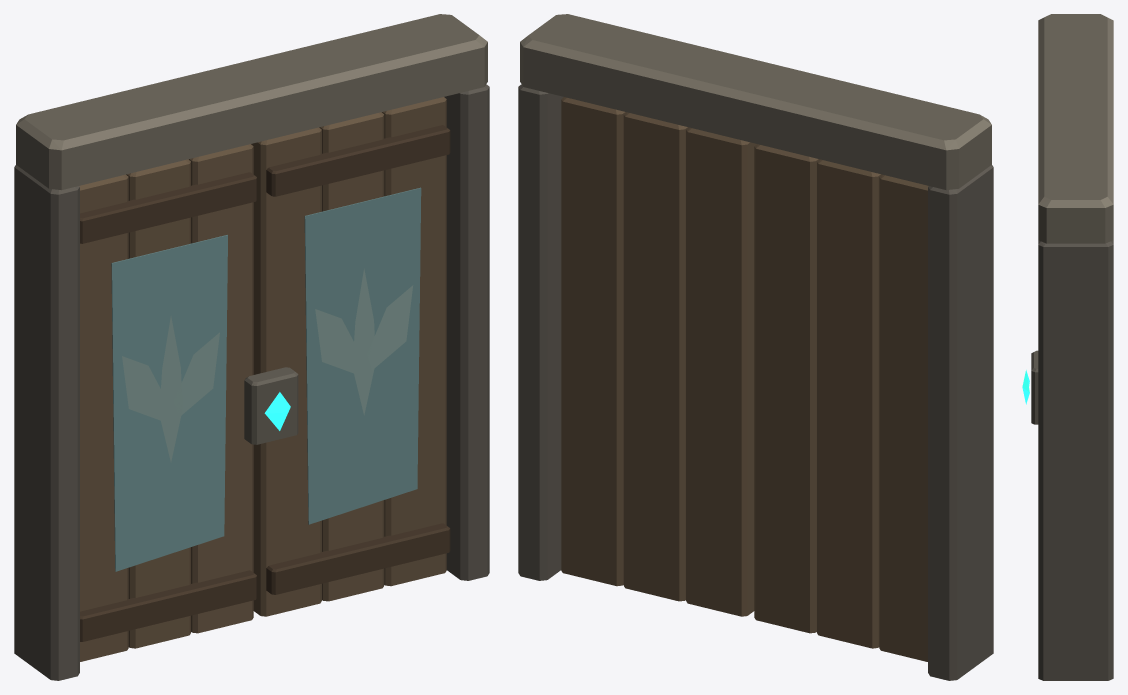
File: garden_door_locked.glb
3 views of the same model, side by side, from view 1: azimuth 30°, elevation 25°; view 2: azimuth 150°, elevation 25°; view 3: azimuth 270°, elevation 25° (orthographic). The views are drawn at different scales.
Visible parts, largest first — view 1: Body_garden_door_locked.001, DoorLeaf_Right.004, DoorLeaf_Left.004; view 2: DoorLeaf_Right.004, Body_garden_door_locked.001, DoorLeaf_Left.004; view 3: Body_garden_door_locked.001, Interactive_Cyan_Lock.
Boxes of the visible parts, x1,y1,x2,y2 form: Body_garden_door_locked.001: (14, 14, 489, 680); DoorLeaf_Right.004: (251, 97, 450, 616); DoorLeaf_Left.004: (79, 144, 256, 661); DoorLeaf_Right.004: (561, 97, 756, 616); Body_garden_door_locked.001: (518, 14, 993, 680); DoorLeaf_Left.004: (754, 144, 928, 661); Body_garden_door_locked.001: (1031, 14, 1113, 680); Interactive_Cyan_Lock: (1022, 370, 1029, 404).
Size of the model in its own units: 3 by 3.5 by 0.605.
